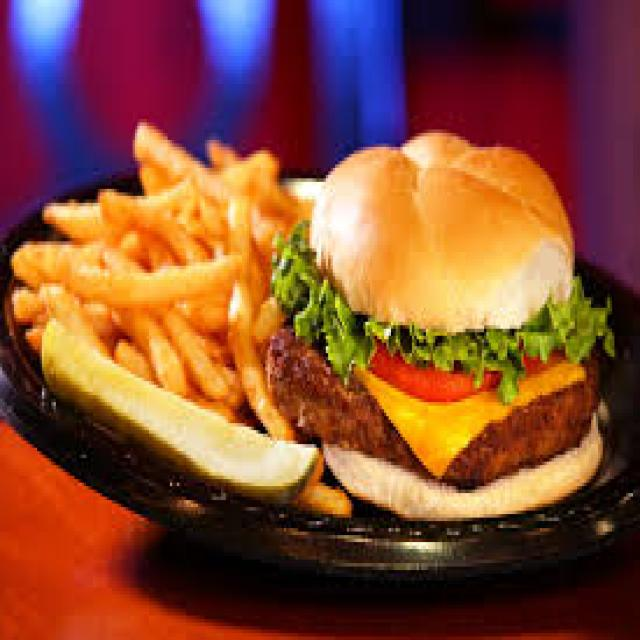Burger: (272, 119, 619, 528)
French Fries: (9, 101, 272, 413)
